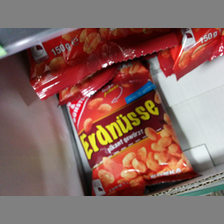nuts: (67, 62, 200, 196)
